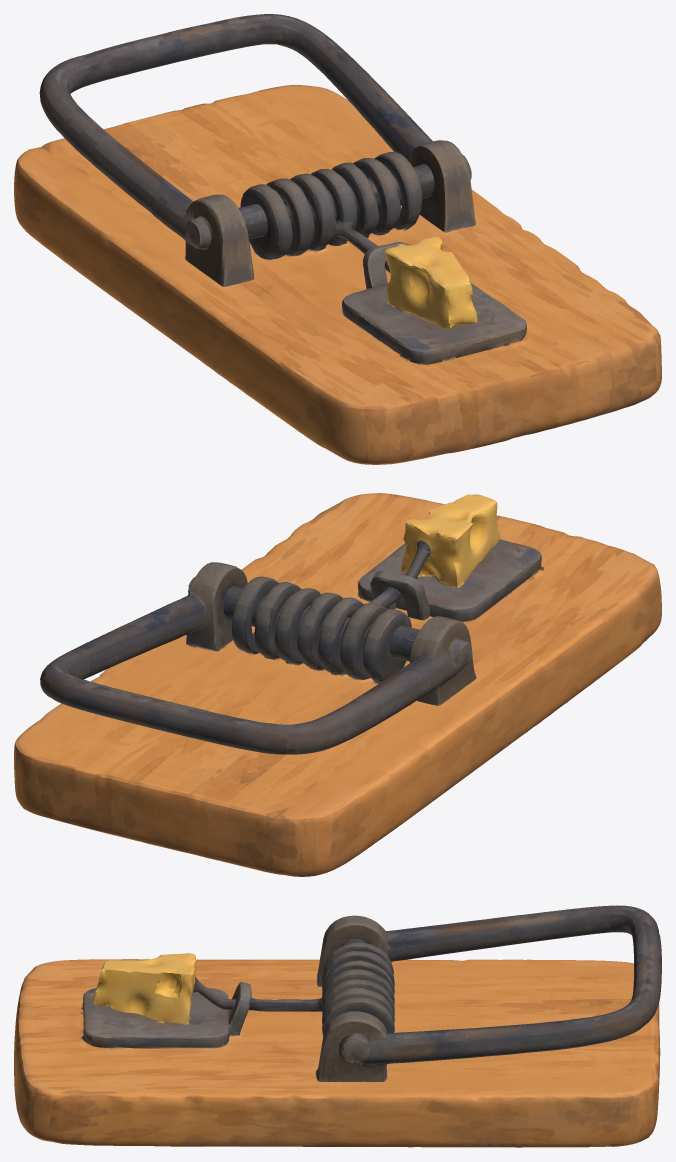
File: Meshy_AI_Mousetrap_with_Cheese_1122025428_texture.glb
3 views of the same model, one above another, from view 1: azimuth 30°, elevation 25°; view 2: azimuth 150°, elevation 25°; view 3: azimuth 270°, elevation 25° (orthographic). The views are drawn at different scales.
Parts seen in each view (by area): view 1: Mesh0; view 2: Mesh0; view 3: Mesh0.
Boxes of the visible parts, x1=… form: Mesh0: x1=14, y1=14, x2=661, y2=464; Mesh0: x1=14, y1=493, x2=661, y2=876; Mesh0: x1=14, y1=905, x2=661, y2=1147.
Bounding box in the file's own units: 0.9756 × 0.4034 × 1.9.
1 material, 1 textured.
